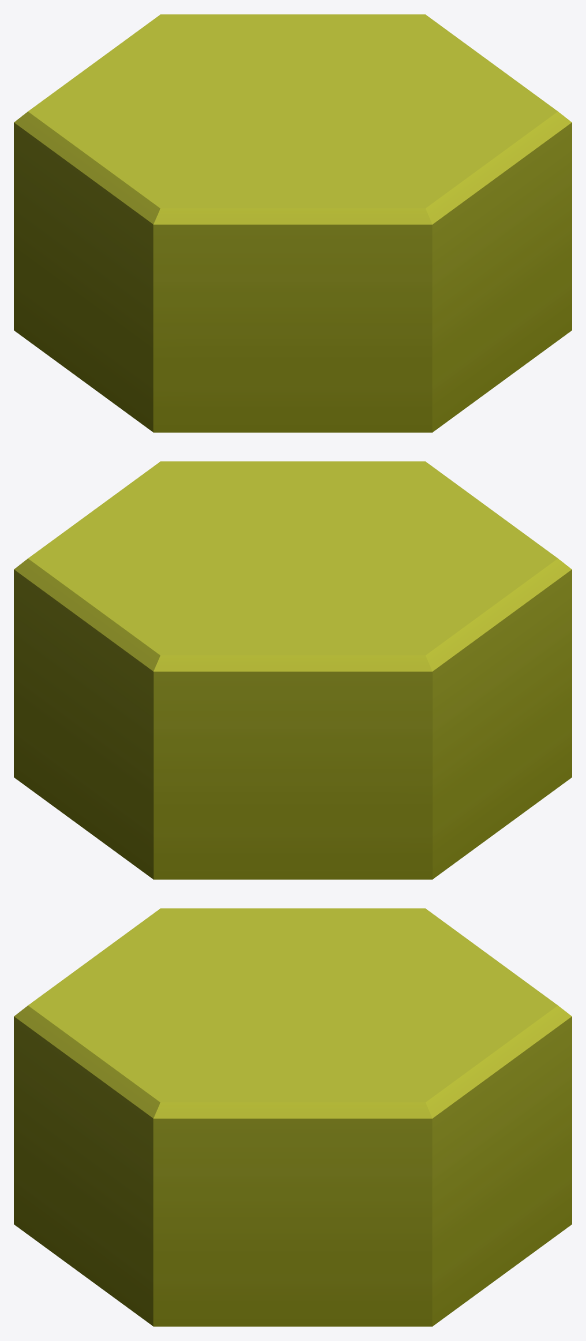
The model's file is hex_grass.glb.
The picture shows the model from 3 angles, top to bottom: view 1: azimuth 30°, elevation 25°; view 2: azimuth 150°, elevation 25°; view 3: azimuth 270°, elevation 25°; orthographic projection.
Visible parts, largest first — view 1: hex_grass; view 2: hex_grass; view 3: hex_grass.
Part boxes in pixels (box(x1,y1,x2,y2)): hex_grass: box(14, 14, 571, 432); hex_grass: box(14, 461, 571, 879); hex_grass: box(14, 908, 571, 1326).
Bounding box in the file's own units: 2 × 1 × 2.31.
1 material, 1 textured.
